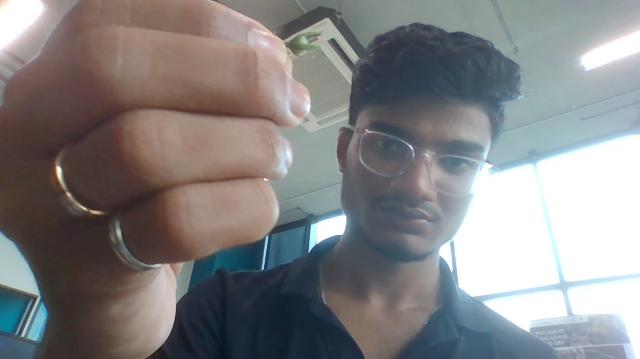Fruit Bud: (284, 33, 321, 59)
